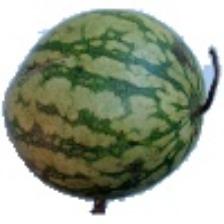watermelon: (50, 20, 213, 169)
